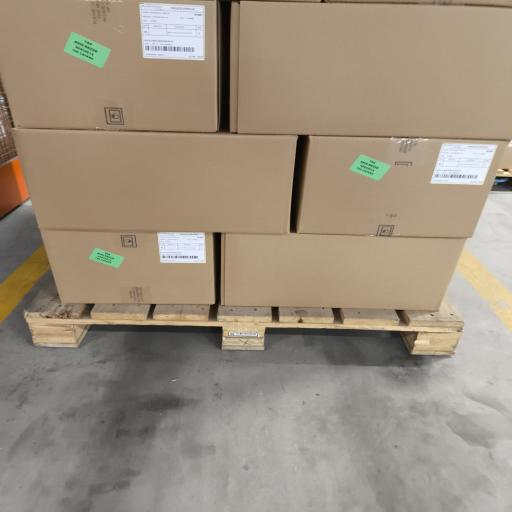pallet: (25, 283, 463, 355), (497, 170, 511, 177)
